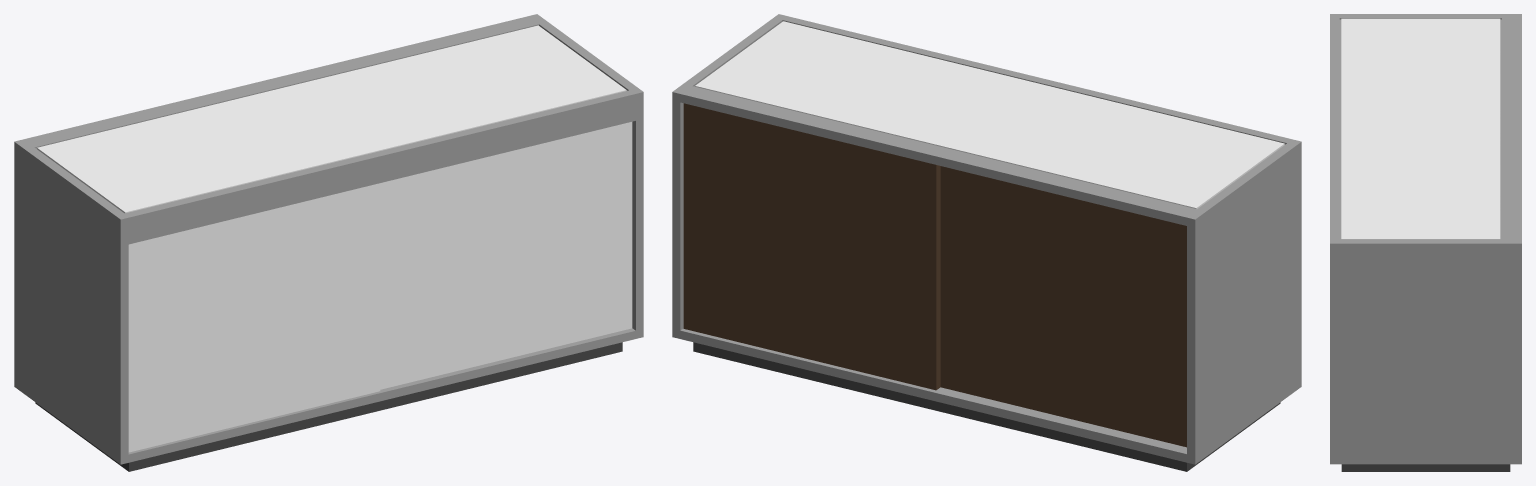
File: Display Case.fbx
3 views of the same model, side by side, from view 1: azimuth 30°, elevation 25°; view 2: azimuth 150°, elevation 25°; view 3: azimuth 270°, elevation 25° (orthographic). The views are drawn at different scales.
Parts seen in each view (by area): view 1: Display Case; view 2: Display Case; view 3: Display Case.
Boxes of the visible parts, left/top/right/bottom form: Display Case: left=14, top=14, right=643, bottom=471; Display Case: left=672, top=14, right=1301, bottom=471; Display Case: left=1330, top=14, right=1521, bottom=471.
Bounding box in the file's own units: 239 × 114 × 84.35.
2 materials, 1 textured.
